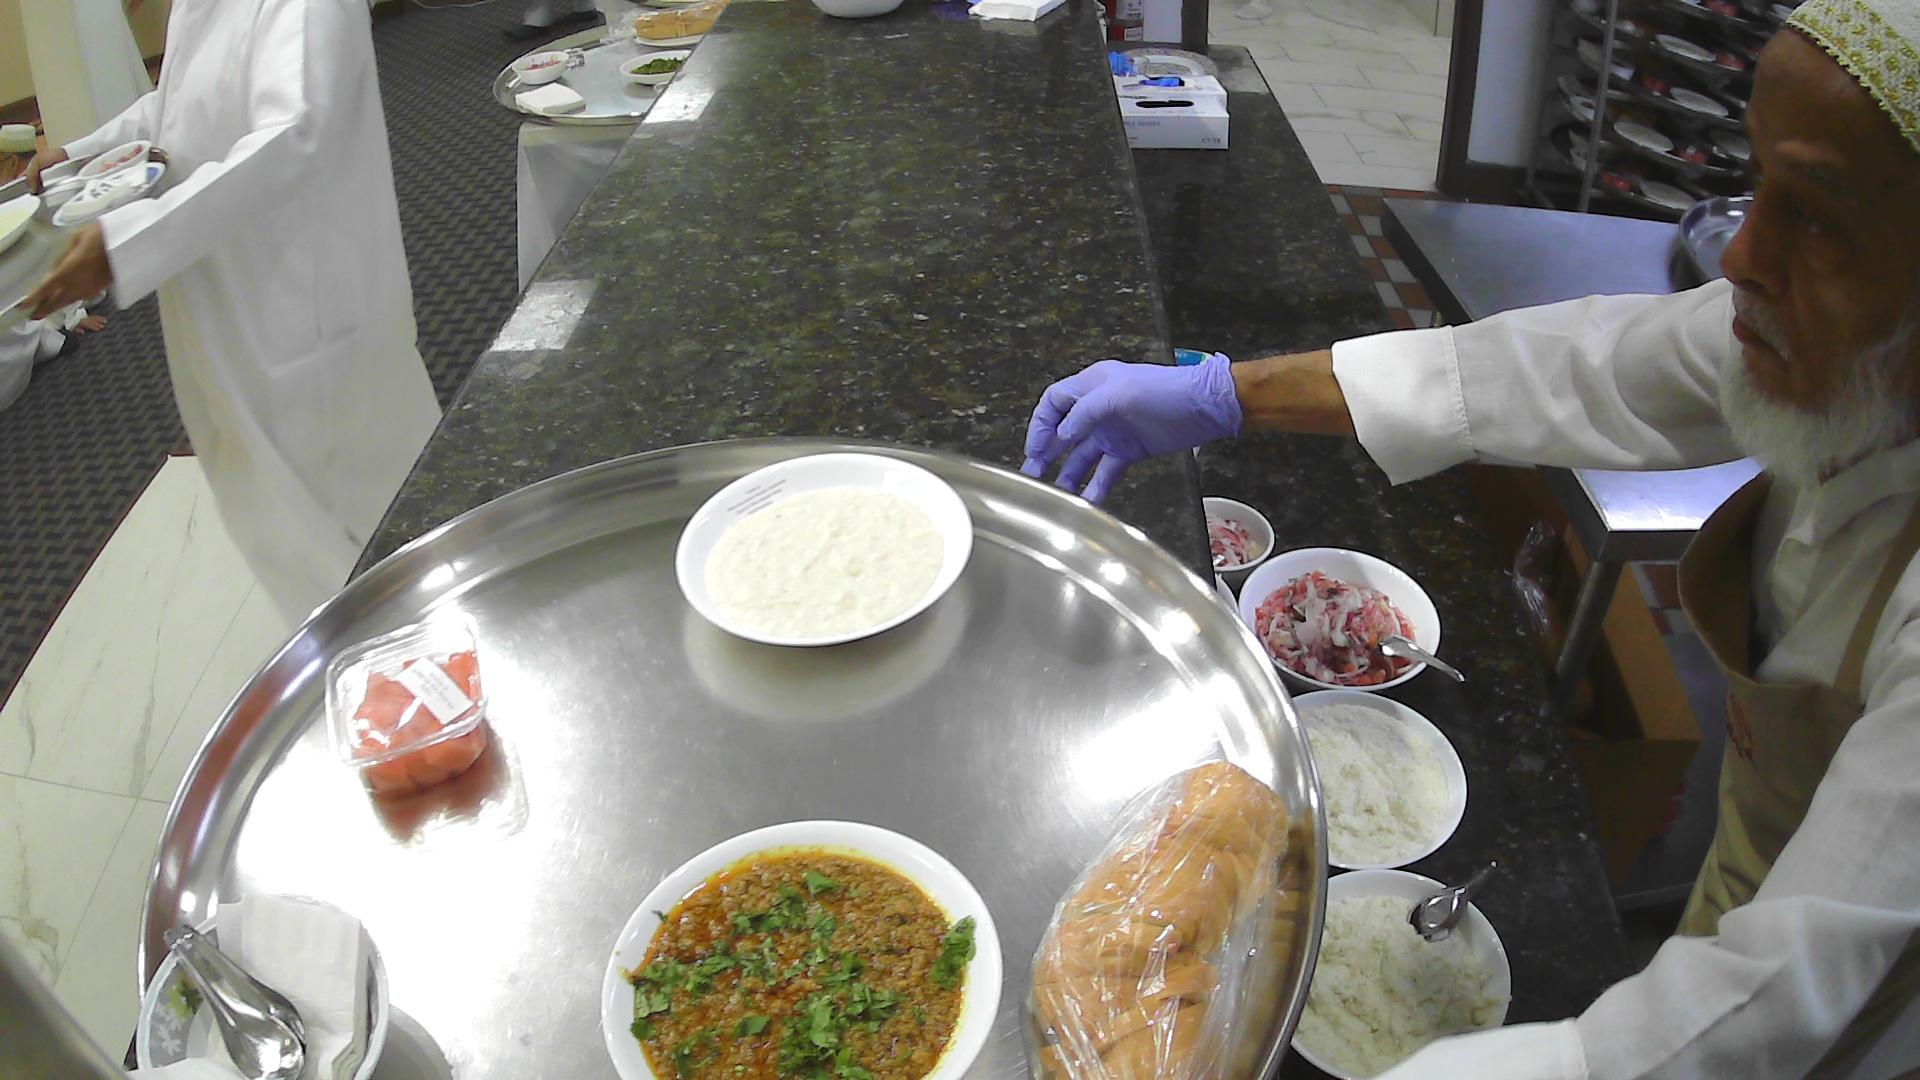thaal: (135, 430, 1331, 1080), (0, 142, 170, 339), (491, 20, 699, 128), (1676, 194, 1755, 286)
